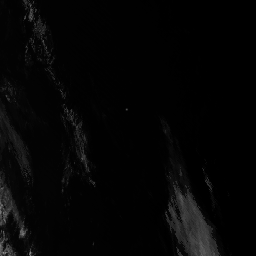Target: (124, 107, 128, 111)
